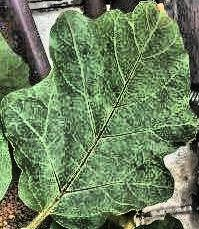HEALTHY: (1, 0, 199, 229)
